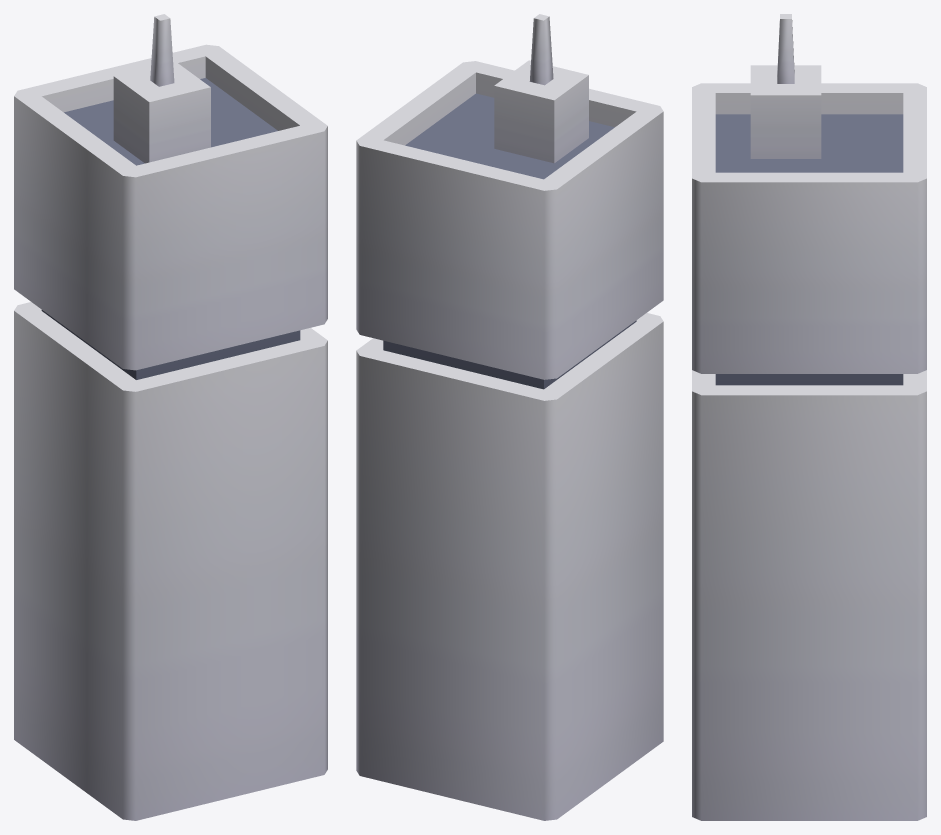
Rendered from low-detail-building-d.glb.
3 renders of one model, left to right at view 1: azimuth 30°, elevation 25°; view 2: azimuth 150°, elevation 25°; view 3: azimuth 270°, elevation 25°, orthographic. The views are drawn at different scales.
Parts seen in each view (by area): view 1: low-detail-building-d; view 2: low-detail-building-d; view 3: low-detail-building-d.
Part boxes in pixels (x1,y1,x2,y2): low-detail-building-d: (14, 14, 327, 820); low-detail-building-d: (356, 14, 663, 820); low-detail-building-d: (692, 14, 926, 820).
Size of the model in its own units: 0.5 by 1.75 by 0.5.
1 material, 1 textured.
